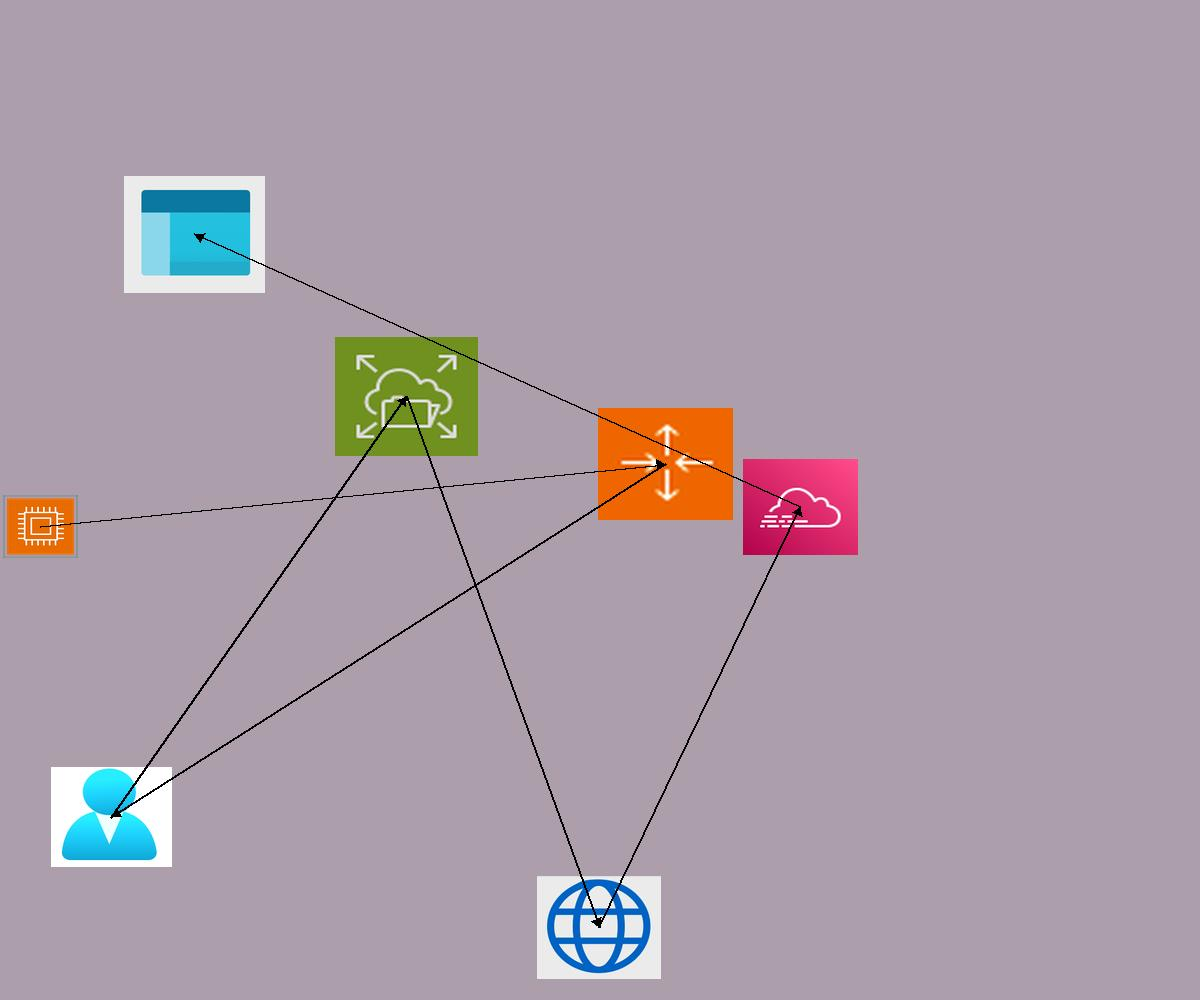AWS-Category_Compute: (3, 495, 78, 558)
AWS-CloudTrail: (743, 459, 858, 555)
AWS-EFS: (335, 337, 478, 456)
AWS-Scaling-group: (598, 408, 733, 520)
Azure_http: (537, 876, 661, 979)
Azure_management-portal: (124, 176, 265, 293)
Azure_users: (51, 767, 172, 867)
